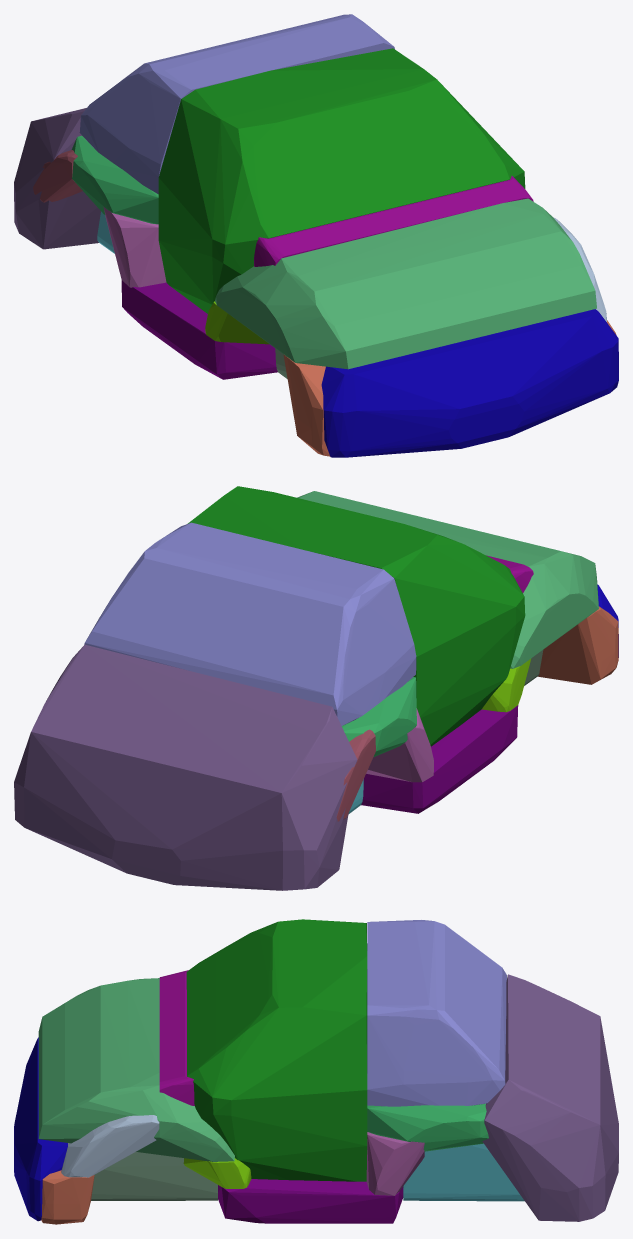
File: sedan-sports-bodyandspoiler-output14.obj
3 views of the same model, one above another, from view 1: azimuth 30°, elevation 25°; view 2: azimuth 150°, elevation 25°; view 3: azimuth 270°, elevation 25° (orthographic). The views are drawn at different scales.
Parts seen in each view (by area): view 1: geometry_8, geometry_3, geometry_5, geometry_12, geometry_1, geometry_11, geometry_14, geometry_10, geometry_7, geometry_9, geometry_13, geometry_4 (+1 smaller); view 2: geometry_1, geometry_12, geometry_8, geometry_3, geometry_11, geometry_9, geometry_10, geometry_7, geometry_13, geometry_4; view 3: geometry_8, geometry_1, geometry_12, geometry_3, geometry_11, geometry_2, geometry_0, geometry_10, geometry_5, geometry_14, geometry_6, geometry_7 (+2 smaller).
Part boxes in pixels (left/top/right/bottom): geometry_8: left=158, top=48, right=525, bottom=313; geometry_3: left=215, top=198, right=596, bottom=369; geometry_5: left=321, top=309, right=618, bottom=457; geometry_12: left=79, top=14, right=394, bottom=194; geometry_1: left=14, top=108, right=100, bottom=249; geometry_11: left=121, top=280, right=277, bottom=379; geometry_14: left=254, top=176, right=533, bottom=266; geometry_10: left=71, top=135, right=158, bottom=224; geometry_7: left=103, top=206, right=166, bottom=287; geometry_9: left=283, top=320, right=616, bottom=456; geometry_13: left=33, top=150, right=82, bottom=202; geometry_4: left=205, top=301, right=269, bottom=344; geometry_1: left=14, top=644, right=357, bottom=890; geometry_12: left=84, top=522, right=416, bottom=725; geometry_8: left=187, top=486, right=525, bottom=746; geometry_3: left=297, top=491, right=598, bottom=668; geometry_11: left=361, top=705, right=518, bottom=813; geometry_9: left=538, top=606, right=618, bottom=684; geometry_10: left=341, top=677, right=416, bottom=757; geometry_7: left=366, top=708, right=433, bottom=782; geometry_13: left=336, top=729, right=375, bottom=821; geometry_4: left=482, top=658, right=531, bottom=712; geometry_8: left=186, top=919, right=367, bottom=1181; geometry_1: left=482, top=974, right=618, bottom=1221; geometry_12: left=367, top=920, right=506, bottom=1106; geometry_3: left=38, top=978, right=234, bottom=1161; geometry_11: left=218, top=1179, right=403, bottom=1223; geometry_2: left=403, top=1143, right=524, bottom=1201; geometry_0: left=91, top=1152, right=217, bottom=1200; geometry_10: left=367, top=1103, right=488, bottom=1151; geometry_5: left=14, top=1037, right=67, bottom=1221; geometry_14: left=159, top=970, right=194, bottom=1105; geometry_6: left=61, top=1115, right=159, bottom=1177; geometry_7: left=366, top=1132, right=424, bottom=1195.
Size of the model in its own units: 1.33 by 0.9768 by 2.58.
